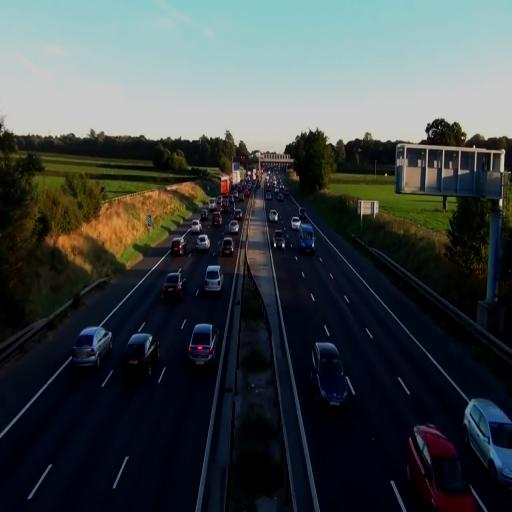vehicle: (405, 423, 483, 511), (463, 397, 512, 493), (310, 342, 350, 412), (122, 330, 159, 381), (71, 326, 113, 370), (188, 321, 216, 369), (162, 271, 184, 301), (204, 264, 224, 294), (299, 225, 315, 254), (196, 232, 210, 254), (221, 236, 235, 256), (273, 230, 286, 250), (268, 208, 279, 223)
